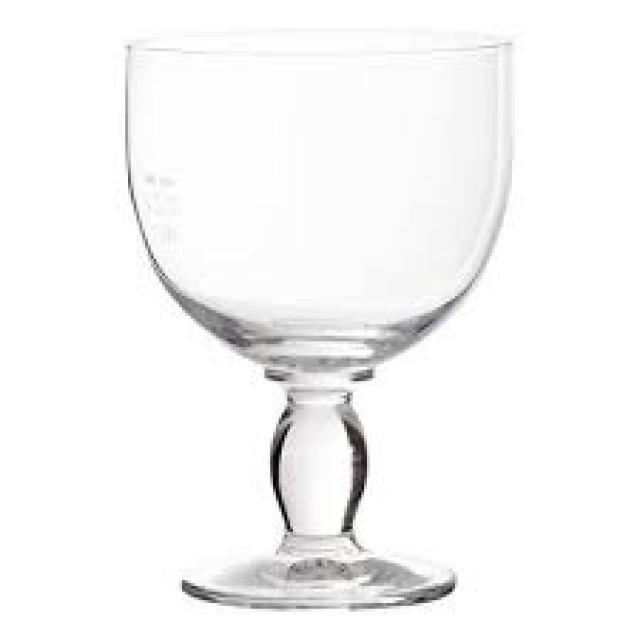Glass: (120, 21, 513, 608)
